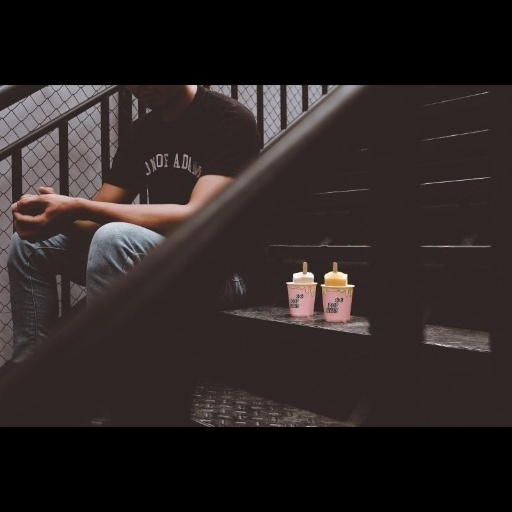Stairs: (175, 88, 512, 424)
